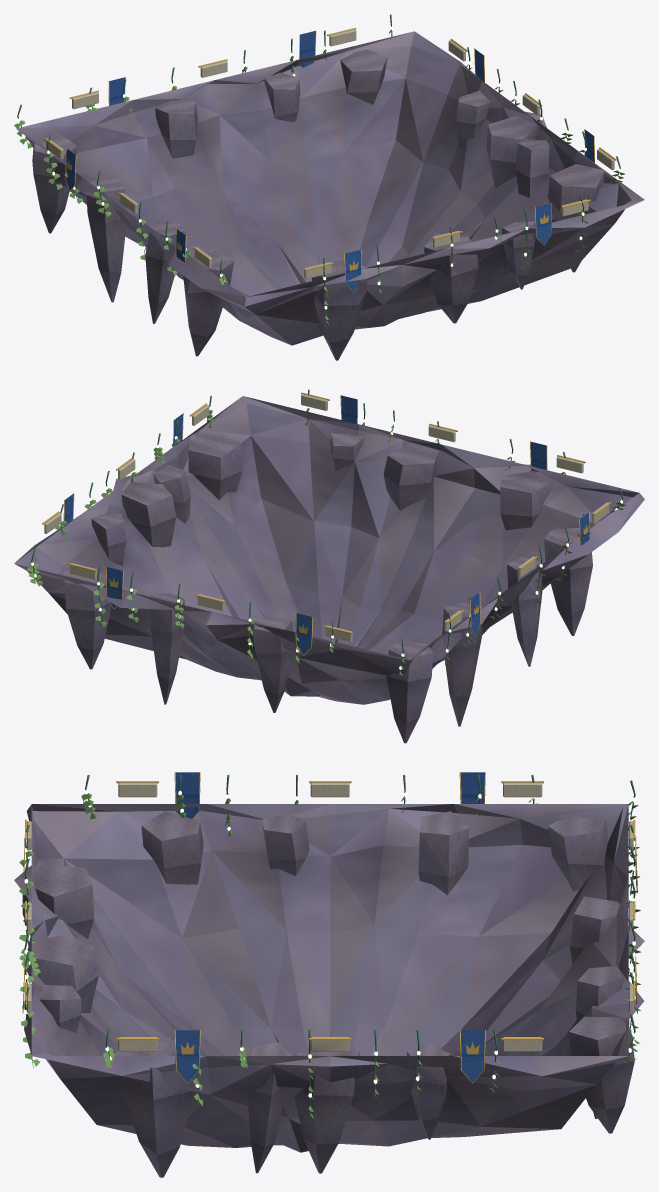
Rendered from crown-foundation-balanced.glb.
The picture shows the model from 3 angles, top to bottom: view 1: azimuth 30°, elevation 25°; view 2: azimuth 150°, elevation 25°; view 3: azimuth 270°, elevation 25°; orthographic projection. The views are drawn at different scales.
Visible parts, largest first — view 1: crown-foundation; view 2: crown-foundation; view 3: crown-foundation.
Boxes of the visible parts, box(x1,y1,x2,y2) form: crown-foundation: box(14, 14, 644, 360); crown-foundation: box(14, 389, 644, 743); crown-foundation: box(14, 772, 644, 1177).
Bounding box in the file's own units: 26.76 × 10.91 × 26.56.
Materials: 7 (7 with a texture image).
